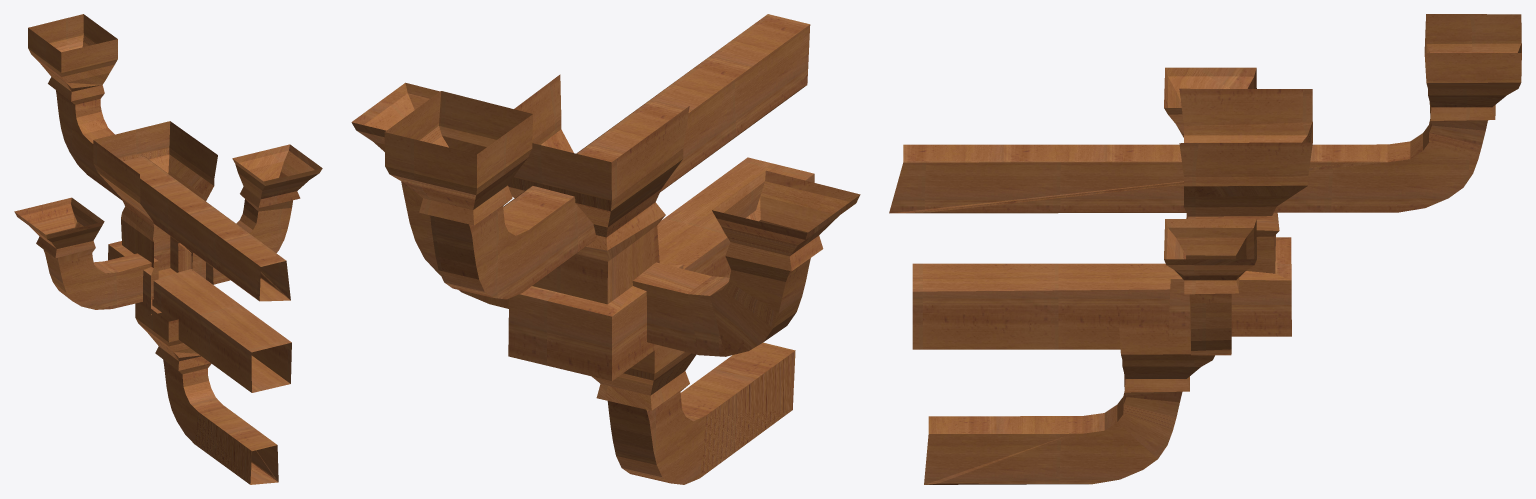
3 renders of one model, left to right at view 1: azimuth 30°, elevation 25°; view 2: azimuth 150°, elevation 25°; view 3: azimuth 270°, elevation 25°, orthographic. The views are drawn at different scales.
Visible parts, largest first — view 1: R1L1; view 2: R1L1; view 3: R1L1.
Boxes of the visible parts, left/top/right/bottom form: R1L1: left=14, top=14, right=322, bottom=484; R1L1: left=351, top=14, right=860, bottom=484; R1L1: left=889, top=14, right=1521, bottom=484.
Bounding box in the file's own units: 34.75 × 37.43 × 48.52.
Materials: 1 (1 with a texture image).
